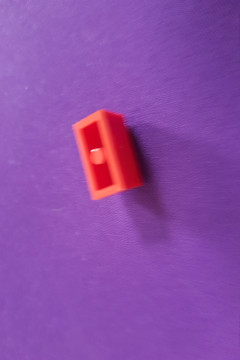1x2 red: (67, 109, 144, 206)
